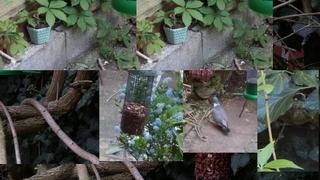wood pigeon: (211, 97, 231, 133)
